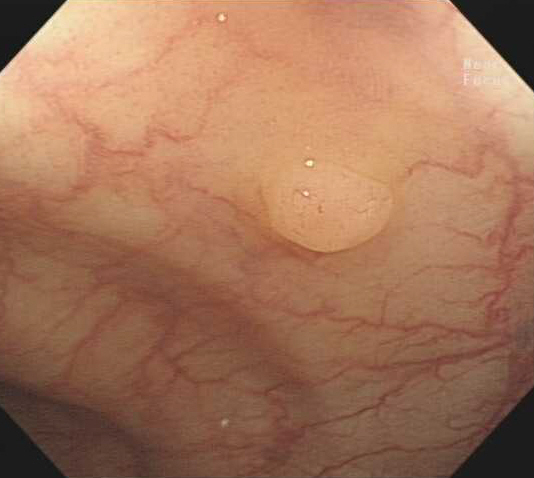adenoma: (256, 157, 396, 254)
